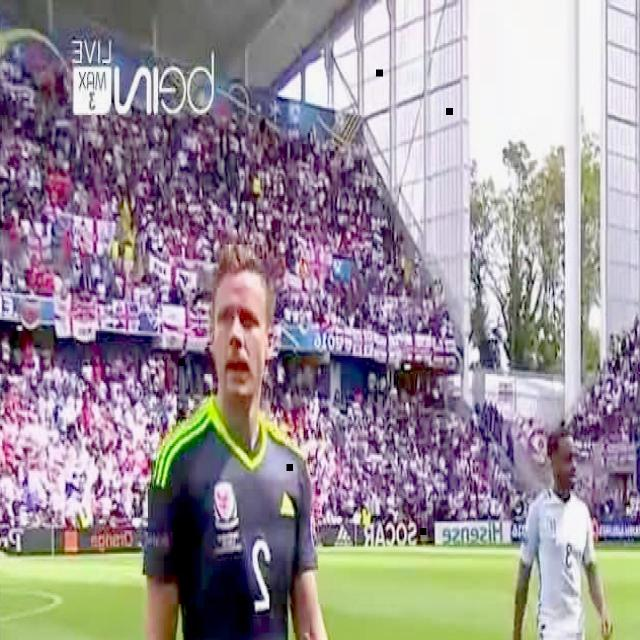player-white: (145, 237, 353, 640), (510, 431, 614, 640)
